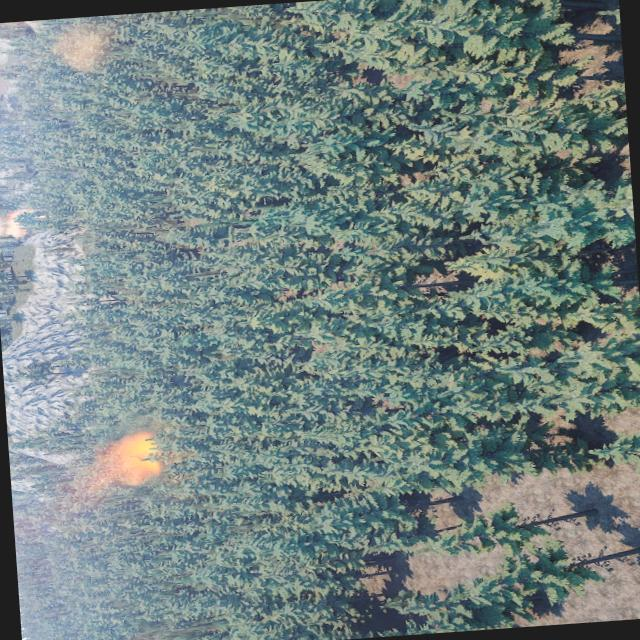fire: (112, 429, 166, 480)
smoke: (40, 444, 142, 519), (48, 23, 112, 71), (0, 207, 37, 238)
